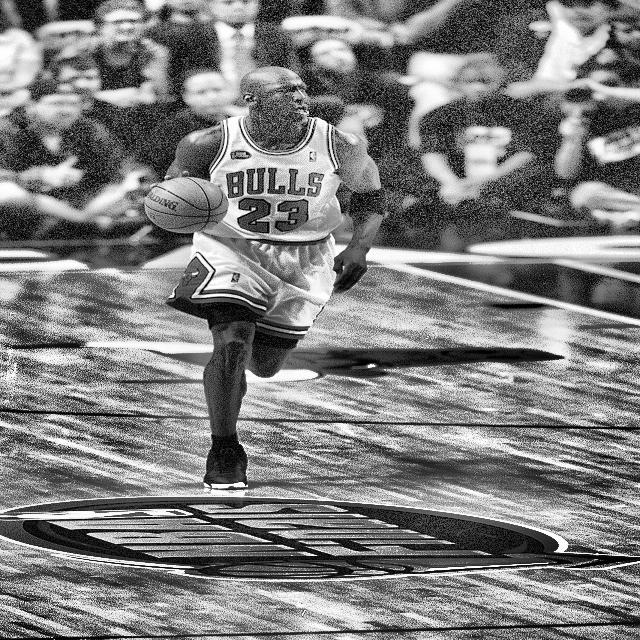Basketball: (144, 177, 228, 233)
